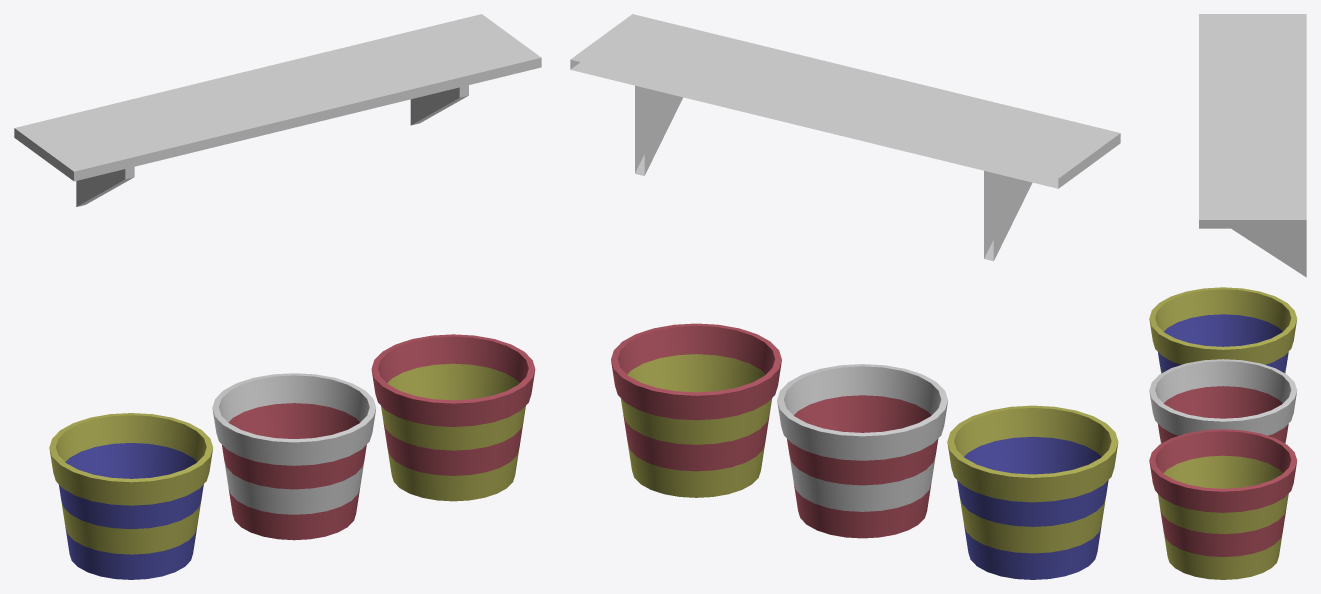
Rendered from Repisa_Set.FBX.
3 views of the same model, side by side, from view 1: azimuth 30°, elevation 25°; view 2: azimuth 150°, elevation 25°; view 3: azimuth 270°, elevation 25° (orthographic). The views are drawn at different scales.
Parts seen in each view (by area): view 1: Repisa, Cesta002, Cesta001, Cesta003; view 2: Repisa, Cesta001, Cesta003, Cesta002; view 3: Repisa, Cesta003, Cesta001, Cesta002.
Boxes of the visible parts, x1,y1,x2,y2 form: Repisa: (14, 14, 541, 206); Cesta002: (212, 373, 376, 540); Cesta001: (49, 413, 213, 579); Cesta003: (371, 334, 535, 501); Repisa: (570, 14, 1120, 261); Cesta001: (947, 405, 1118, 579); Cesta003: (611, 323, 781, 497); Cesta002: (777, 364, 948, 538); Repisa: (1199, 14, 1306, 277); Cesta003: (1149, 429, 1297, 579); Cesta001: (1149, 287, 1297, 373); Cesta002: (1149, 359, 1297, 443).
Bounding box in the file's own units: 230 × 74.33 × 192.
